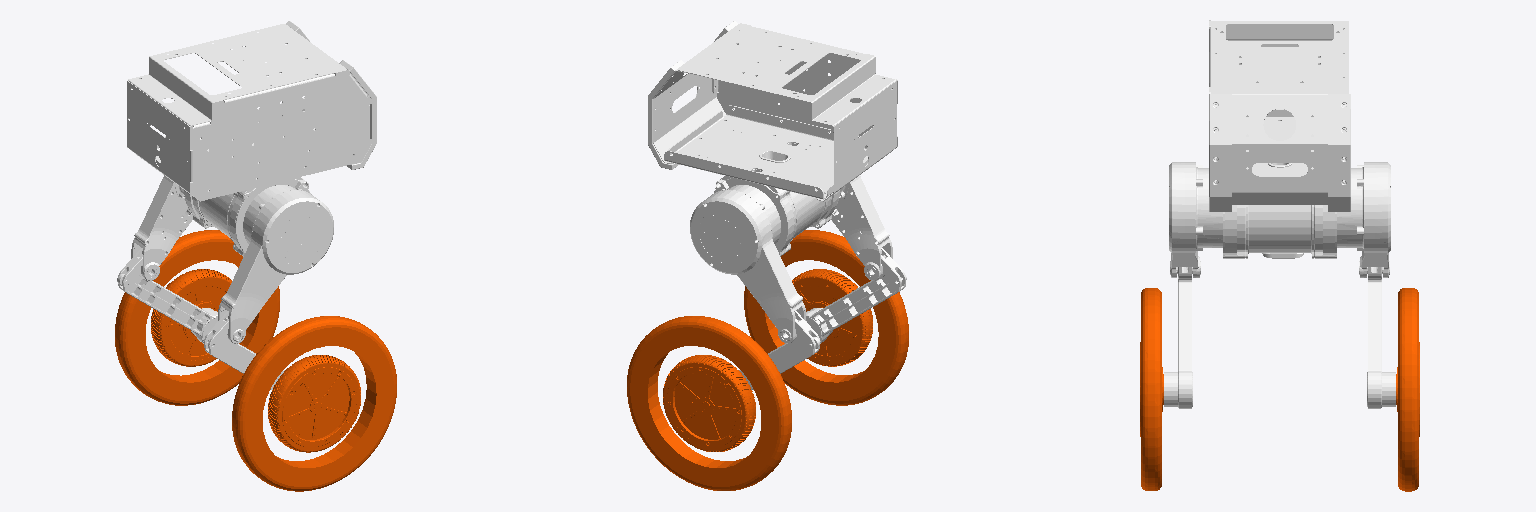
robot.urdf — diablo_pluspro_stand:
<?xml version="1.0" encoding="utf-8"?>
<!-- This URDF was automatically created by SolidWorks to URDF Exporter! Originally created by [author] ([email redacted]) 
     Commit Version: 1.6.0-4-g7f85cfe  Build Version: 1.6.7995.38578
     For more information, please see http://wiki.ros.org/sw_urdf_exporter -->
<robot
  name="diablo_pluspro_stand">
  <material name="black">
    <color rgba="0.0 0.0 0.0 1.0"/>
  </material>
  <material name="blue">
      <color rgba="0.0 0.0 0.8 1.0"/>
  </material>
  <material name="green">
      <color rgba="0.0 0.8 0.0 1.0"/>
  </material>
  <material name="grey">
      <color rgba="0.2 0.2 0.2 1.0"/>
  </material>
  <material name="silver">
      <color rgba="0.9137254901960784 0.9137254901960784 0.8470588235294118 1.0"/>
  </material>
  <material name="orange">
      <color rgba="1.0 0.4235294117647059 0.0392156862745098 1.0"/>
  </material>
  <material name="brown">
      <color rgba="0.8705882352941177 0.8117647058823529 0.7647058823529411 1.0"/>
  </material>
  <material name="red">
      <color rgba="0.8 0.0 0.0 1.0"/>
  </material>
  <material name="white">
      <color rgba="1.0 1.0 1.0 1.0"/>
  </material>
  <link
    name="base_link">
    <inertial>
      <origin
        xyz="0.017899 -0.019179 0.16091"
        rpy="0 0 0" />
      <mass
        value="8.53" />
      <inertia
        ixx="0.8371974"
        ixy="-0.06254957"
        ixz="-0.01618499"
        iyy="0.8708397"
        iyz="0.003006719"
        izz="0.3425067" />
    </inertial>
    <visual>
      <origin
        xyz="0 0 0"
        rpy="0 0 0" />
      <geometry>
        <mesh
          filename="../meshes/base_link.STL" />
      </geometry>
      <material
        name="">
        <color
          rgba="1 1 1 1" />
      </material>
    </visual>
    <collision>
      <origin
        xyz="0 0 0"
        rpy="0 0 0" />
      <geometry>
        <mesh
          filename="../meshes/base_link.STL" />
      </geometry>
    </collision>
  </link>

  <link name="imu_link">
    <inertial>
      <mass value="0.001"/>
      <origin rpy="0 0 0" xyz="0 0 0"/>
      <inertia ixx="0.0001" ixy="0" ixz="0" iyy="0.0001" iyz="0" izz="0.0001"/>
    </inertial>
    <visual>
      <origin rpy="0 0 0" xyz="0 0 0"/>
      <geometry>
        <box size="0.001 0.001 0.001"/>
      </geometry>
      <material name="red"/>
    </visual>
    <collision>
      <origin rpy="0 0 0" xyz="0 0 0"/>
      <geometry>
        <box size=".001 .001 .001"/>
      </geometry>
    </collision>
  </link>
  <joint name="imu_joint" type="fixed">
    <parent link="base_link"/>
    <child link="imu_link"/>
    <origin rpy="0 0 0" xyz="0 0 0"/>
  </joint>

  <link name="left_hip_link">
    <inertial>
      <origin
        xyz="-0.028034 0.083955 -0.03225"
        rpy="0 0 0" />
      <mass
        value="5.1" />
      <inertia
        ixx="0.01137421"
        ixy="0.00070511460"
        ixz="0.00124554"
        iyy="0.0082006541"
        iyz="0.0029798900"
        izz="0.0060506903" />
    </inertial>
    <visual>
      <origin
        xyz="0 0 0"
        rpy="0 0 0" />
      <geometry>
        <mesh
          filename="../meshes/left_hip_link.STL" />
      </geometry>
      <material
        name="">
        <color
          rgba="1 1 1 1" />
      </material>
    </visual>
    <collision>
      <origin
        xyz="0 0 0"
        rpy="0 0 0" />
      <geometry>
        <mesh
          filename="../meshes/left_hip_link.STL" />
      </geometry>
    </collision>
  </link>
  <joint
    name="left_hip_joint"
    type="revolute">
    <origin
      xyz="0 0.0428 0.075997"
      rpy="0 0 0" />
    <parent
      link="base_link" />
    <child
      link="left_hip_link" />
    <axis
      xyz="0 1 0" />
    <limit
      lower="-1.57"
      upper="1.57"
      effort="80"
      velocity="15" />
  </joint>
  <link
    name="left_knee_link">
    <inertial>
      <origin
        xyz="0.058585 -0.0059746 -0.081982"
        rpy="0 0 0" />
      <mass
        value="2.17" />
      <inertia
        ixx="0.0044665319"
        ixy="1.2345077E-05"
        ixz="-0.00023975799"
        iyy="0.0046256777"
        iyz="-0.00022848392"
        izz="0.0002702575" />
    </inertial>
    <visual>
      <origin
        xyz="0 0 0"
        rpy="0 0 0" />
      <geometry>
        <mesh
          filename="../meshes/left_knee_link.STL" />
      </geometry>
      <material
        name="">
        <color
          rgba="1 1 1 1" />
      </material>
    </visual>
    <collision>
      <origin
        xyz="0 0 0"
        rpy="0 0 0" />
      <geometry>
        <mesh
          filename="../meshes/left_knee_link.STL" />
      </geometry>
    </collision>
  </link>
  <joint
    name="left_knee_joint"
    type="revolute">
    <origin
      xyz="-0.12022 0.11148 -0.15983"
      rpy="0 0 0" />
    <parent
      link="left_hip_link" />
    <child
      link="left_knee_link" />
    <axis
      xyz="0 1 0" />
    <limit
      lower="-1.19"
      upper="0"
      effort="80"
      velocity="15" />
  </joint>
  <link
    name="left_wheel_link">
    <inertial>
      <origin
        xyz="-2.0554E-06 0.028353 3.331E-07"
        rpy="0 0 0" />
      <mass
        value="2" />
      <inertia
        ixx="0.013847"
        ixy="-1.0976E-07"
        ixz="-3.0619E-09"
        iyy="0.027351"
        iyz="8.9065E-09"
        izz="0.013847" />
    </inertial>
    <visual>
      <origin
        xyz="0 0 0"
        rpy="0 0 0" />
      <geometry>
        <mesh
          filename="../meshes/left_wheel_link.STL" />
      </geometry>
      <material name="orange">
          <color rgba="1.0 0.4235294117647059 0.0392156862745098 1.0"/>
      </material>
    </visual>
    <collision>
      <origin
        xyz="0 0.02 0"
        rpy="1.5707963 0 0" />
      <geometry>
        <cylinder radius="0.16" length="0.035"/>
      </geometry>
    </collision>
  </link>
  <joint
    name="left_wheel_joint"
    type="revolute">
    <origin
      xyz="0.13397 0.01346 -0.1485"
      rpy="0 0 0" />
    <parent
      link="left_knee_link" />
    <child
      link="left_wheel_link" />
    <axis
      xyz="0 1 0" />
    <limit
      lower="-1000000" 
      upper="1000000"      
      effort="20"
      velocity="30" />
    <dynamics friction="0.01" />
  </joint>
  <link
    name="right_hip_link">
    <inertial>
      <origin
        xyz="-0.028034 -0.083955 -0.032251"
        rpy="0 0 0" />
      <mass
        value="5.1" />
      <inertia
        ixx="0.01137421"
        ixy="0.00070511460"
        ixz="0.00124554"
        iyy="0.0082006541"
        iyz="0.0029798900"
        izz="0.0060506903" />
    </inertial>
    <visual>
      <origin
        xyz="0 0 0"
        rpy="0 0 0" />
      <geometry>
        <mesh
          filename="../meshes/right_hip_link.STL" />
      </geometry>
      <material
        name="">
        <color
          rgba="1 1 1 1" />
      </material>
    </visual>
    <collision>
      <origin
        xyz="0 0 0"
        rpy="0 0 0" />
      <geometry>
        <mesh
          filename="../meshes/right_hip_link.STL" />
      </geometry>
    </collision>
  </link>
  <joint
    name="right_hip_joint"
    type="revolute">
    <origin
      xyz="0 -0.0528 0.075997"
      rpy="0 0 0" />
    <parent
      link="base_link" />
    <child
      link="right_hip_link" />
    <axis
      xyz="0 1 0" />
    <limit
      lower="-1.57"
      upper="1.57"
      effort="80"
      velocity="15" />
  </joint>
  <link
    name="right_knee_link">
    <inertial>
      <origin
        xyz="0.060903 -0.0019333 -0.083431"
        rpy="0 0 0" />
      <mass
        value="2.17" />
      <inertia
        ixx="0.0044665319"
        ixy="1.2345077E-05"
        ixz="-0.00023975799"
        iyy="0.0046256777"
        iyz="-0.00022848392"
        izz="0.0002702575" />
    </inertial>
    <visual>
      <origin
        xyz="0 0 0"
        rpy="0 0 0" />
      <geometry>
        <mesh
          filename="../meshes/right_knee_link.STL" />
      </geometry>
      <material
        name="">
        <color
          rgba="1 1 1 1" />
      </material>
    </visual>
    <collision>
      <origin
        xyz="0 0 0"
        rpy="0 0 0" />
      <geometry>
        <mesh
          filename="../meshes/right_knee_link.STL" />
      </geometry>
    </collision>
  </link>
  <joint
    name="right_knee_joint"
    type="revolute">
    <origin
      xyz="-0.12022 -0.10364 -0.15983"
      rpy="0 0 0" />
    <parent
      link="right_hip_link" />
    <child
      link="right_knee_link" />
    <axis
      xyz="0 1 0" />
    <limit
      lower="-1.19"
      upper="0"
      effort="80"
      velocity="15" />
  </joint>
  <link
    name="right_wheel_link">
    <inertial>
      <origin
        xyz="-2.0311E-06 -0.019153 -4.553E-07"
        rpy="0 0 0" />
      <mass
        value="2" />
      <inertia
        ixx="0.013847"
        ixy="1.0863E-07"
        ixz="3.5235E-09"
        iyy="0.027351"
        iyz="1.5231E-08"
        izz="0.013847" />
    </inertial>
    <visual>
      <origin
        xyz="0 0 0"
        rpy="0 0 0" />
      <geometry>
        <mesh
          filename="../meshes/right_wheel_link.STL" />
      </geometry>
      <material name="orange">
          <color rgba="1.0 0.4235294117647059 0.0392156862745098 1.0"/>
      </material>
    </visual>
    <collision>
      <origin
        xyz="0 -0.02 0"
        rpy="1.5707963 0 0" />
      <geometry>
        <cylinder radius="0.16" length="0.035"/>
      </geometry>
    </collision>
  </link>
  <joint
    name="right_wheel_joint"
    type="revolute">
    <origin
      xyz="0.13397 -0.03046 -0.1485"
      rpy="0 0 0" />
    <parent
      link="right_knee_link" />
    <child
      link="right_wheel_link" />
    <axis
      xyz="0 1 0" />
    <limit
      lower="-1000000" 
      upper="1000000"      
      effort="20"
      velocity="30" />
    <dynamics friction="0.01" />
  </joint>
</robot>

--- Render facts (derived) ---
3 views of the same robot in one strip: view 1: azimuth 30°, elevation 25°; view 2: azimuth 150°, elevation 25°; view 3: azimuth 270°, elevation 25° (orthographic).
Model diablo_pluspro_stand with 8 links and 7 joints (6 revolute, 1 fixed), rooted at base_link, posed all joints at 0.
Visible links, largest first — view 1: base_link, right_wheel_link, left_wheel_link, right_hip_link, left_hip_link, left_knee_link, right_knee_link; view 2: base_link, left_wheel_link, right_wheel_link, left_hip_link, right_hip_link, right_knee_link, left_knee_link; view 3: base_link, left_hip_link, right_hip_link, left_wheel_link, right_wheel_link, left_knee_link, right_knee_link.
Link boxes in pixels (bbox=[...]): base_link: bbox=[127, 21, 376, 256]; right_wheel_link: bbox=[232, 316, 396, 491]; left_wheel_link: bbox=[115, 230, 279, 405]; right_hip_link: bbox=[218, 185, 333, 343]; left_hip_link: bbox=[131, 175, 192, 280]; left_knee_link: bbox=[117, 248, 217, 343]; right_knee_link: bbox=[204, 311, 284, 389]; base_link: bbox=[648, 21, 897, 256]; left_wheel_link: bbox=[627, 316, 791, 490]; right_wheel_link: bbox=[744, 230, 908, 405]; left_hip_link: bbox=[690, 185, 805, 343]; right_hip_link: bbox=[830, 131, 892, 280]; right_knee_link: bbox=[806, 248, 906, 342]; left_knee_link: bbox=[739, 311, 820, 389]; base_link: bbox=[1209, 20, 1350, 258]; left_hip_link: bbox=[1337, 162, 1390, 277]; right_hip_link: bbox=[1169, 162, 1222, 277]; left_wheel_link: bbox=[1396, 288, 1419, 491]; right_wheel_link: bbox=[1140, 288, 1163, 490]; left_knee_link: bbox=[1367, 267, 1395, 408]; right_knee_link: bbox=[1164, 267, 1192, 408].
Size in the robot's own frame: 0.371 by 0.4384 by 0.732 metres.
Meshes: 7 distinct files referenced, 7 mesh visuals loaded (7 binary STL).
